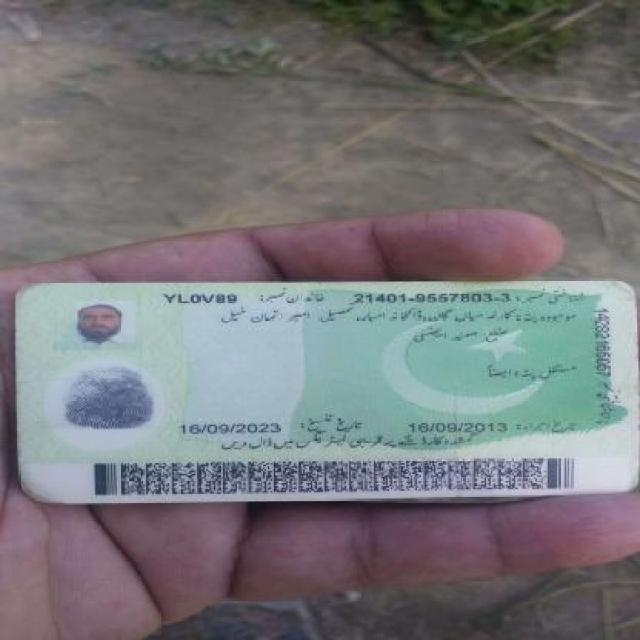Back: (20, 272, 628, 497)
